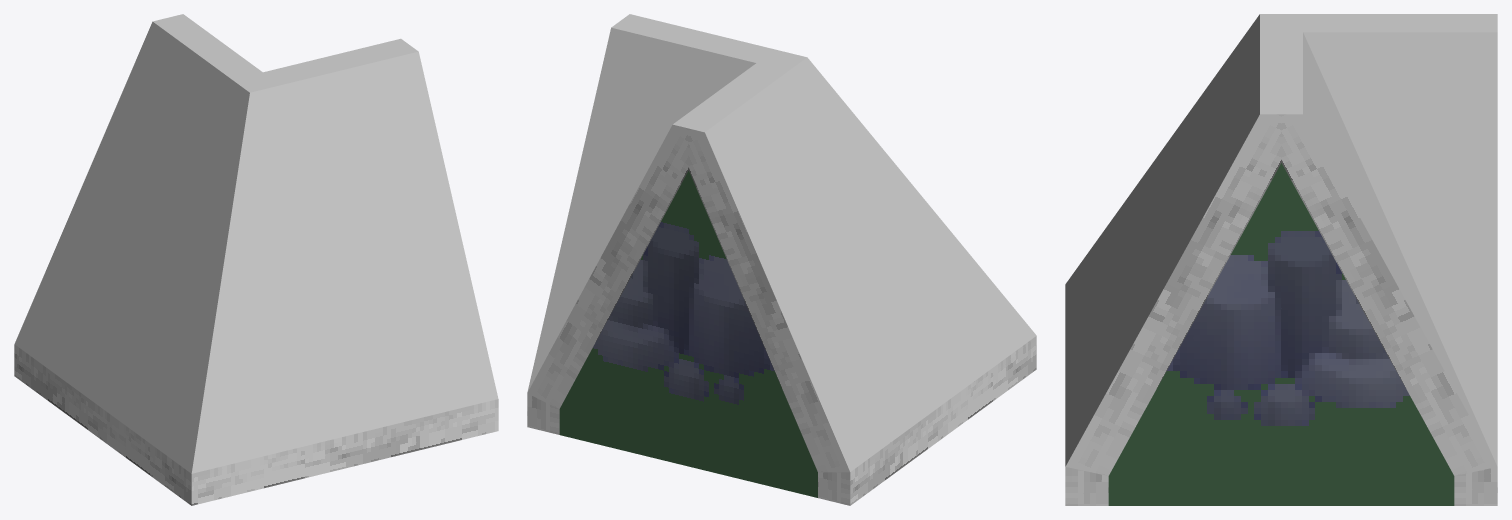
The model's file is roof_corner.dae.
3 views of the same model, side by side, from view 1: azimuth 30°, elevation 25°; view 2: azimuth 150°, elevation 25°; view 3: azimuth 270°, elevation 25° (orthographic). The views are drawn at different scales.
Visible parts, largest first — view 1: roof_corner; view 2: roof_corner; view 3: roof_corner.
Boxes of the visible parts, x1,y1,x2,y2 form: roof_corner: (14,14,498,505); roof_corner: (527,14,1036,505); roof_corner: (1065,14,1497,505).
Size of the model in its own units: 1 by 1 by 1.
